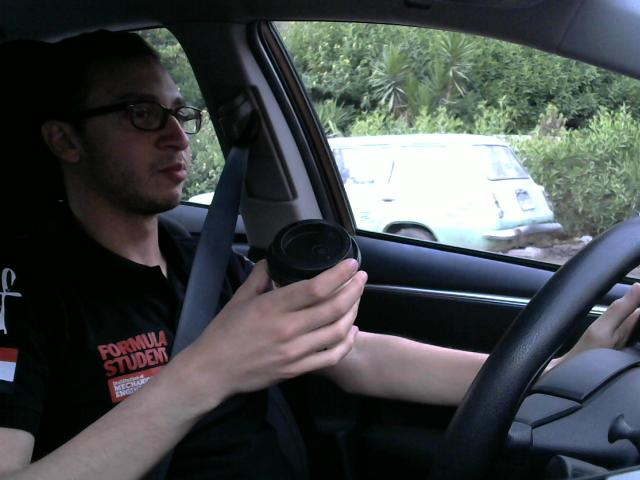Drinking: (259, 205, 366, 375)
